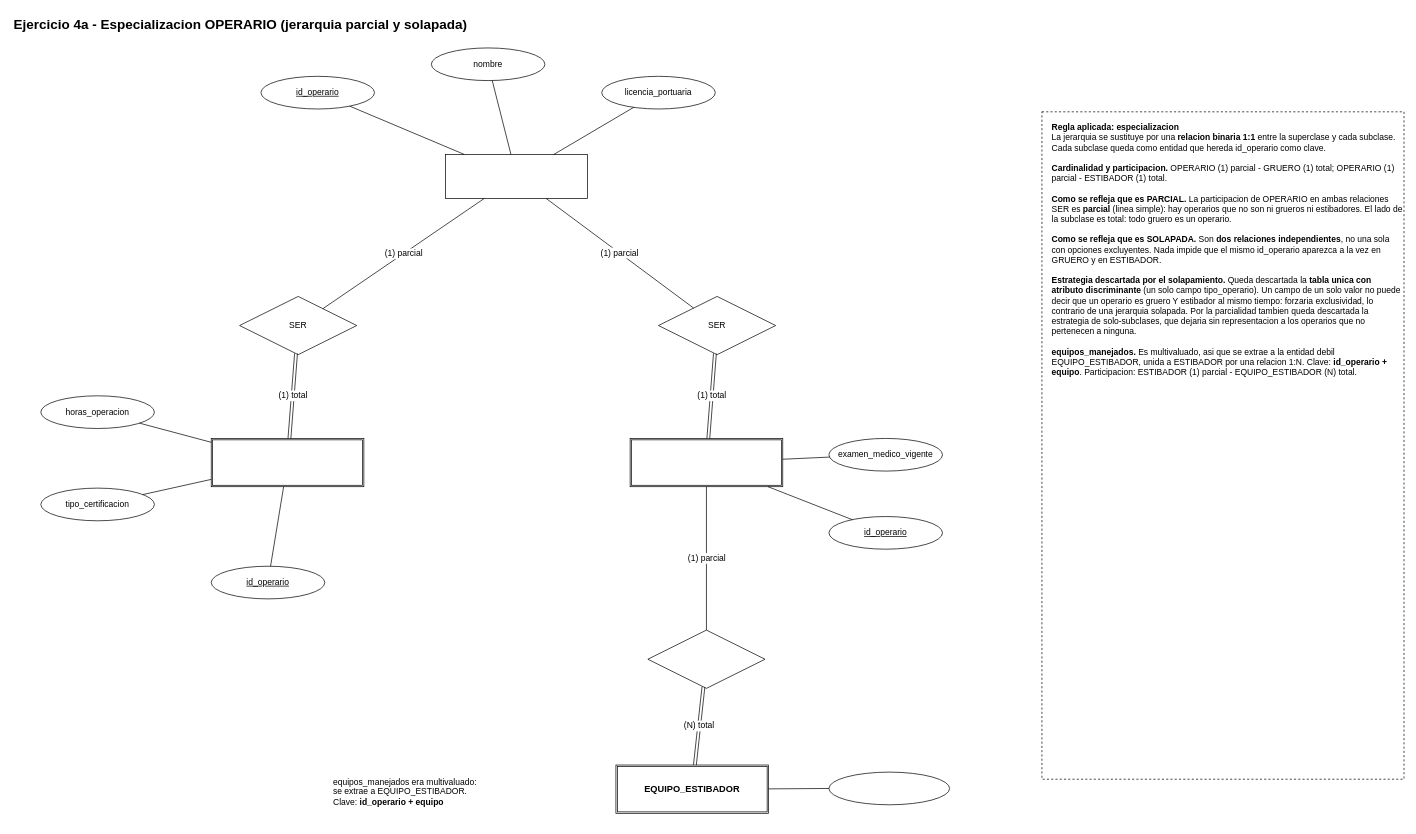
The diagram is 1416 pixels wide and 834 high, and some of its shapes have lost their labels. The centre of each missing label's shape, as x and y in pixels:
equipo: point (889, 788)
ESTIBADOR: point (706, 462)
GRUERO: point (287, 462)
MANEJAR: point (706, 658)
OPERARIO: point (516, 176)
